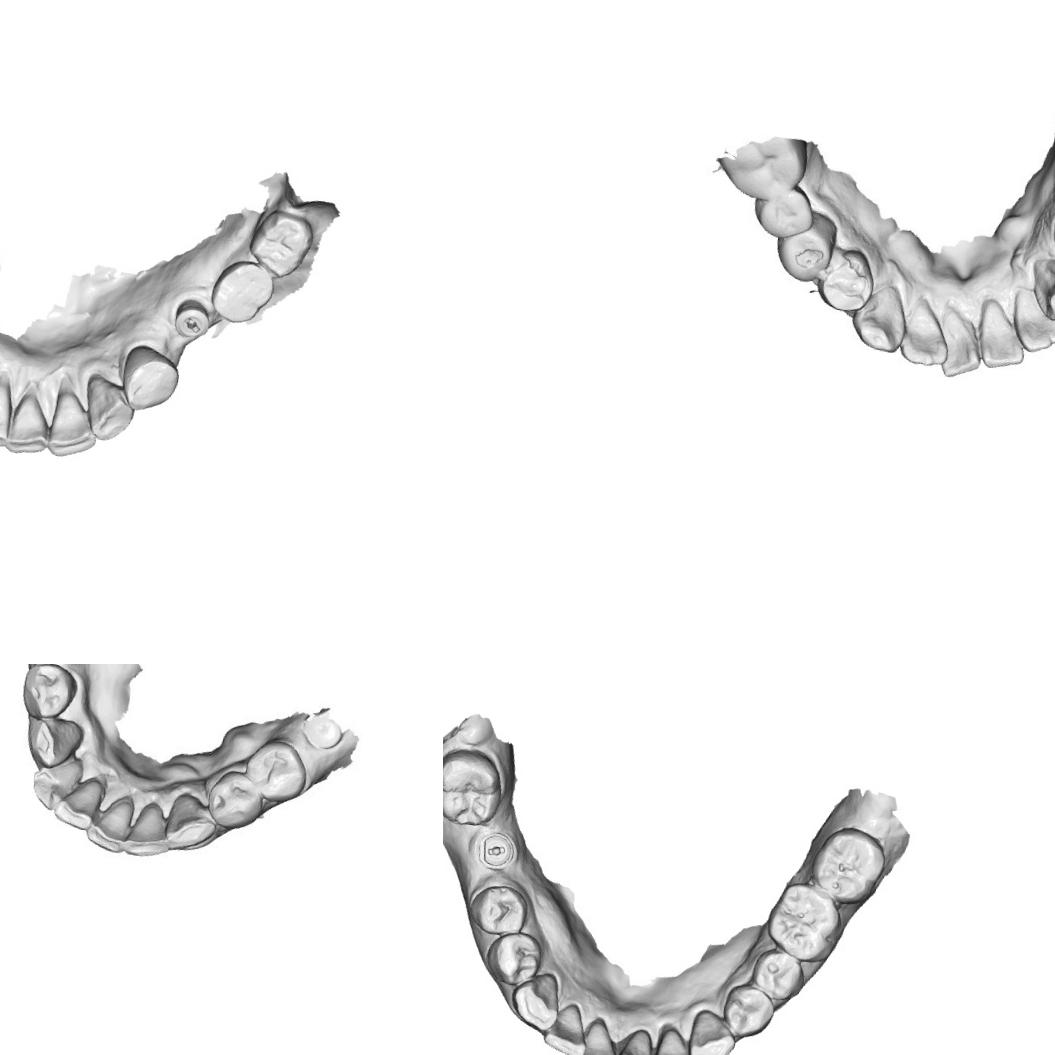canine: (80, 374, 137, 445), (507, 968, 566, 1036), (852, 284, 909, 352), (23, 716, 86, 774), (162, 790, 220, 851), (683, 1005, 740, 1055), (1023, 252, 1055, 323)
implant: (301, 713, 344, 752)
implant_minus: (168, 296, 214, 346), (474, 827, 521, 873)
incisor: (44, 390, 104, 462), (934, 304, 986, 386), (974, 300, 1030, 374), (894, 295, 950, 368), (1006, 287, 1055, 359), (5, 391, 56, 458), (122, 798, 175, 862), (28, 754, 84, 814), (540, 996, 596, 1055), (84, 791, 136, 854), (52, 775, 106, 832), (575, 1014, 624, 1055), (649, 1022, 703, 1055), (614, 1024, 662, 1055), (0, 380, 20, 449)
molar: (761, 878, 848, 968), (805, 821, 890, 912), (720, 128, 810, 202), (443, 742, 510, 833), (245, 204, 317, 282), (207, 257, 280, 332)
premolar: (810, 242, 880, 322), (114, 340, 188, 414), (240, 736, 312, 807), (771, 217, 836, 288), (480, 926, 551, 991), (204, 766, 268, 834), (464, 879, 532, 940), (748, 180, 816, 240), (746, 946, 809, 1006), (17, 664, 80, 723), (719, 980, 778, 1042)
